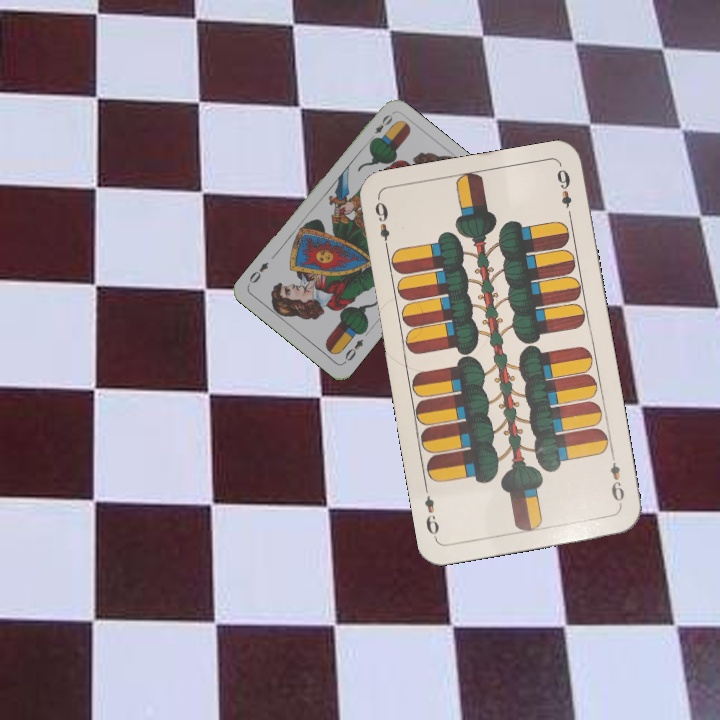E9: (371, 197, 392, 254), (606, 458, 627, 508)
EO: (365, 110, 395, 145), (340, 335, 366, 366)
